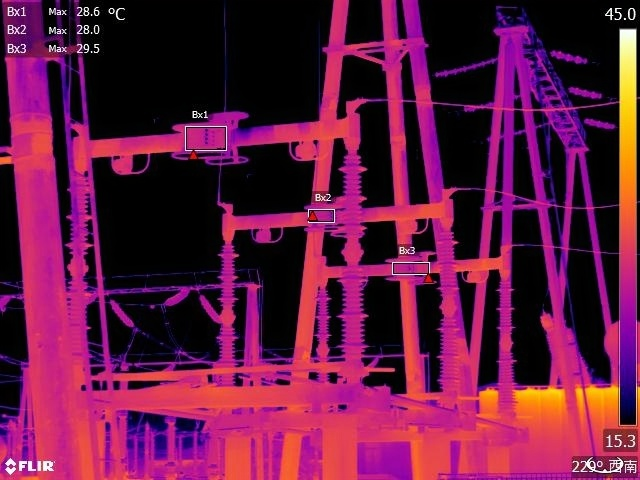insulator: (437, 56, 504, 79), (541, 43, 594, 68), (106, 294, 138, 333), (199, 292, 223, 329), (582, 111, 618, 135), (162, 283, 193, 308), (567, 82, 605, 101)
post insulator: (334, 146, 376, 379), (64, 167, 95, 379), (433, 214, 464, 407), (489, 276, 523, 424), (211, 236, 244, 387), (314, 280, 333, 369)
switch: (69, 93, 370, 175), (218, 189, 466, 242), (315, 237, 515, 290)
